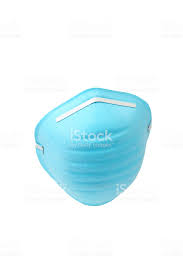mask: (30, 93, 151, 198)
